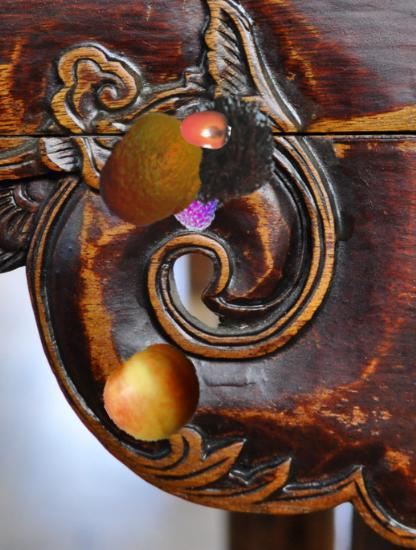Apple: (104, 345, 204, 445)
Kaki: (180, 103, 231, 154)
Mandarine: (94, 113, 214, 233)
Rambutan: (153, 93, 277, 217)
Raspberry: (165, 173, 223, 231)
